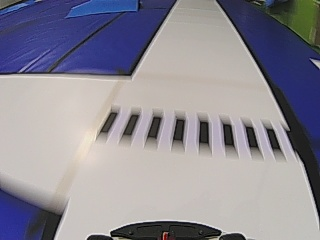CrossWalk: (97, 110, 280, 151)
